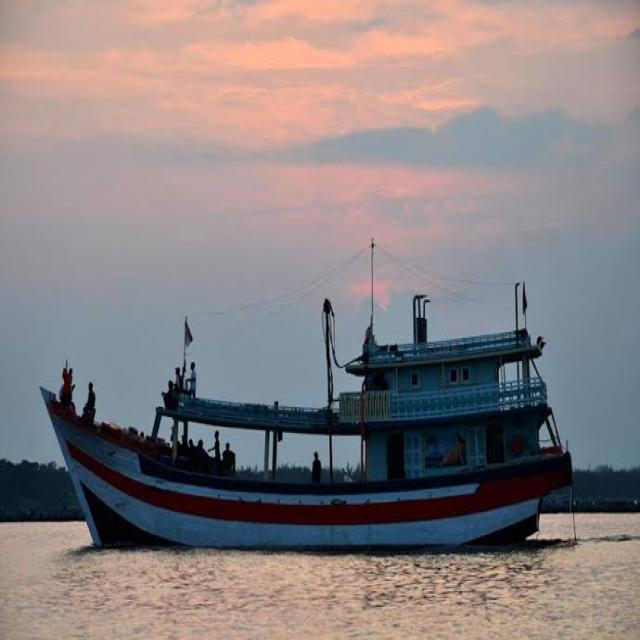Fishing Boat: (0, 171, 545, 516)
